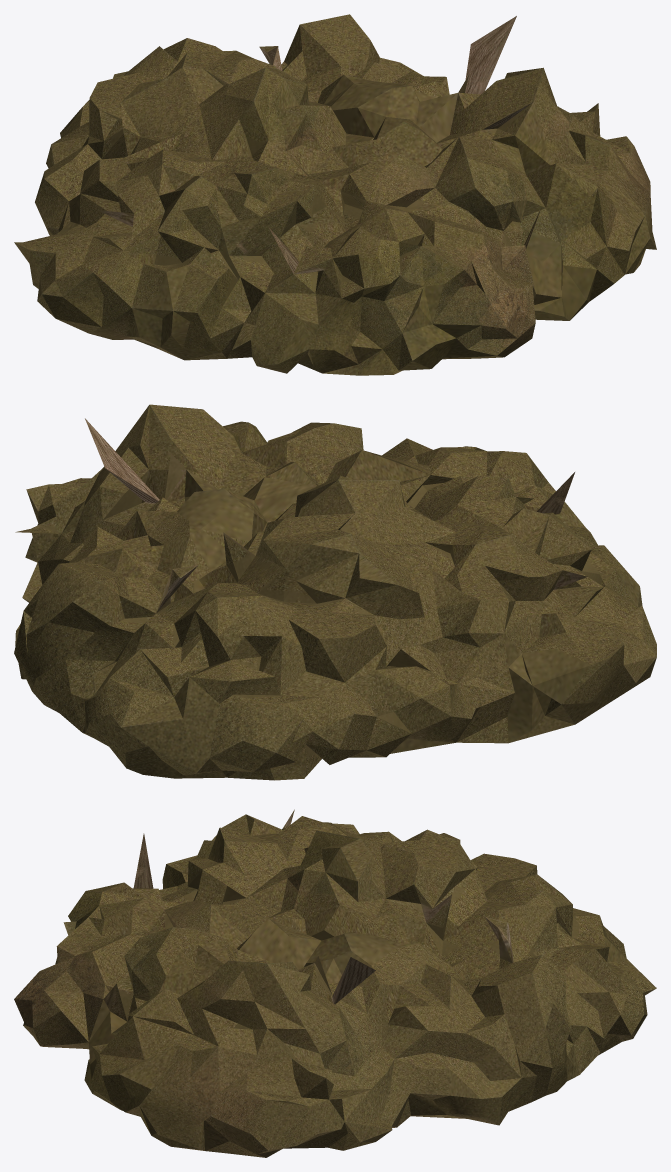
File: matorral.glb
3 renders of one model, top to bottom at view 1: azimuth 30°, elevation 25°; view 2: azimuth 150°, elevation 25°; view 3: azimuth 270°, elevation 25°, orthographic. The views are drawn at different scales.
Bounding box in the file's own units: 1.89 × 0.5855 × 1.88.
1 material, 1 textured.
